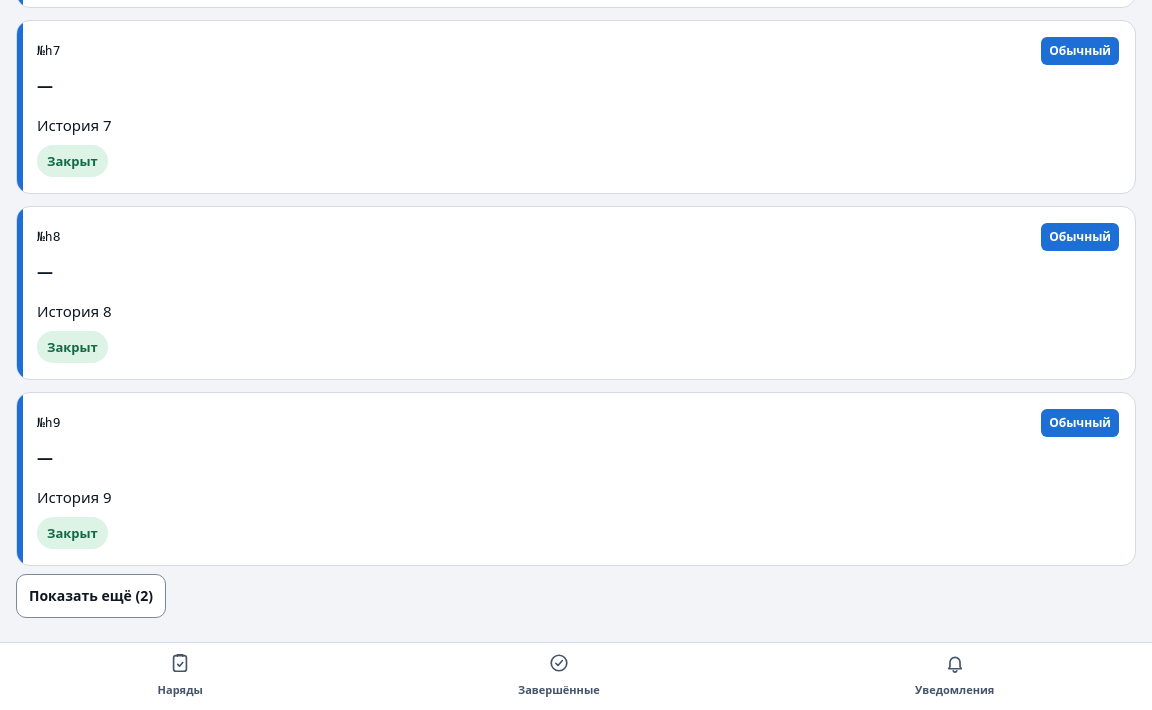
WorkerHome › paginates history with more button
(page scrolled)
Expected: the text "История 10" is not shown
Click the button "Показать ещё (2)" at (91, 596), box [16,574,166,618]
(page scrolled)
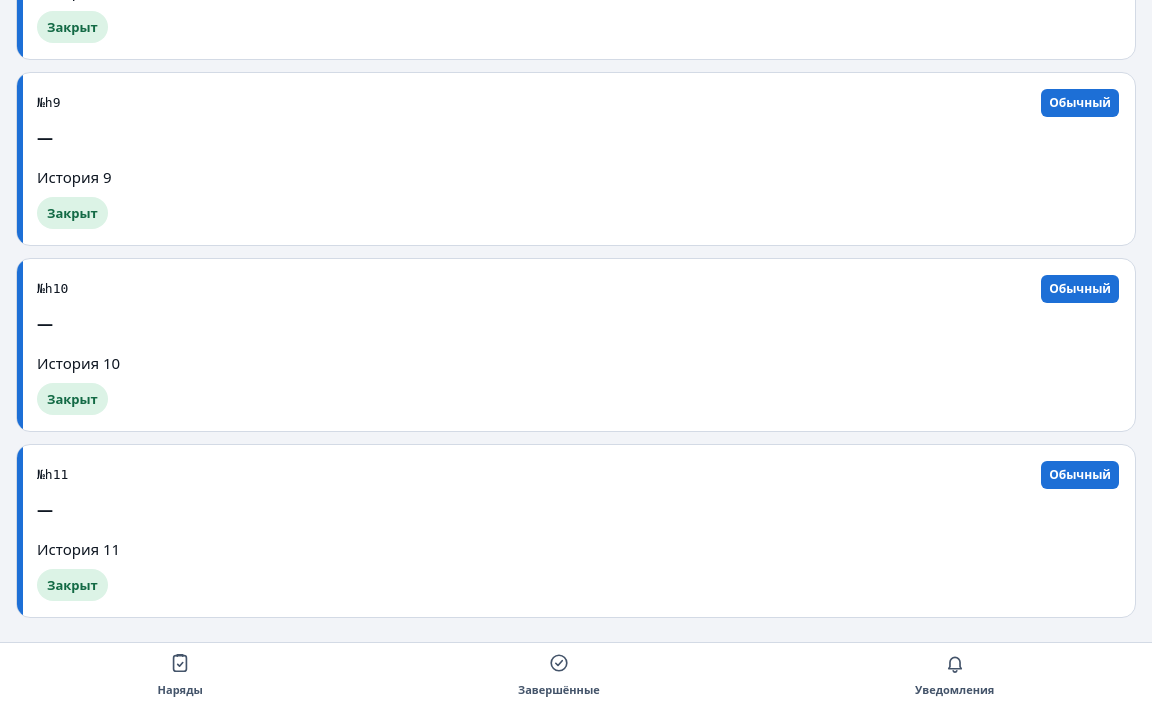
Expected: the text "История 10" is shown, [37,353,120,373]
Expected: the text "История 11" is shown, [37,539,120,559]
